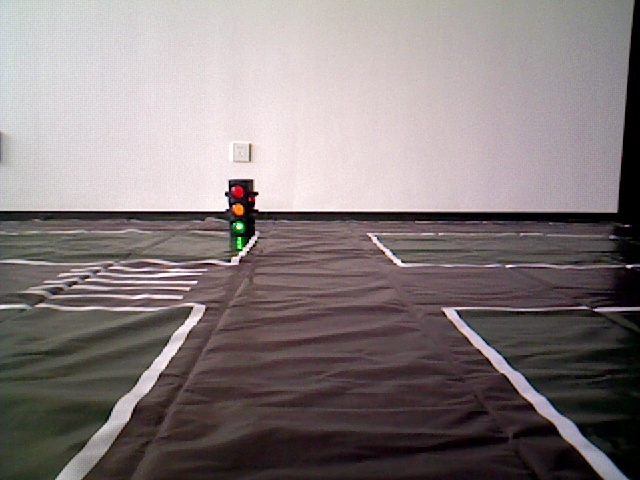green: (227, 177, 251, 233)
